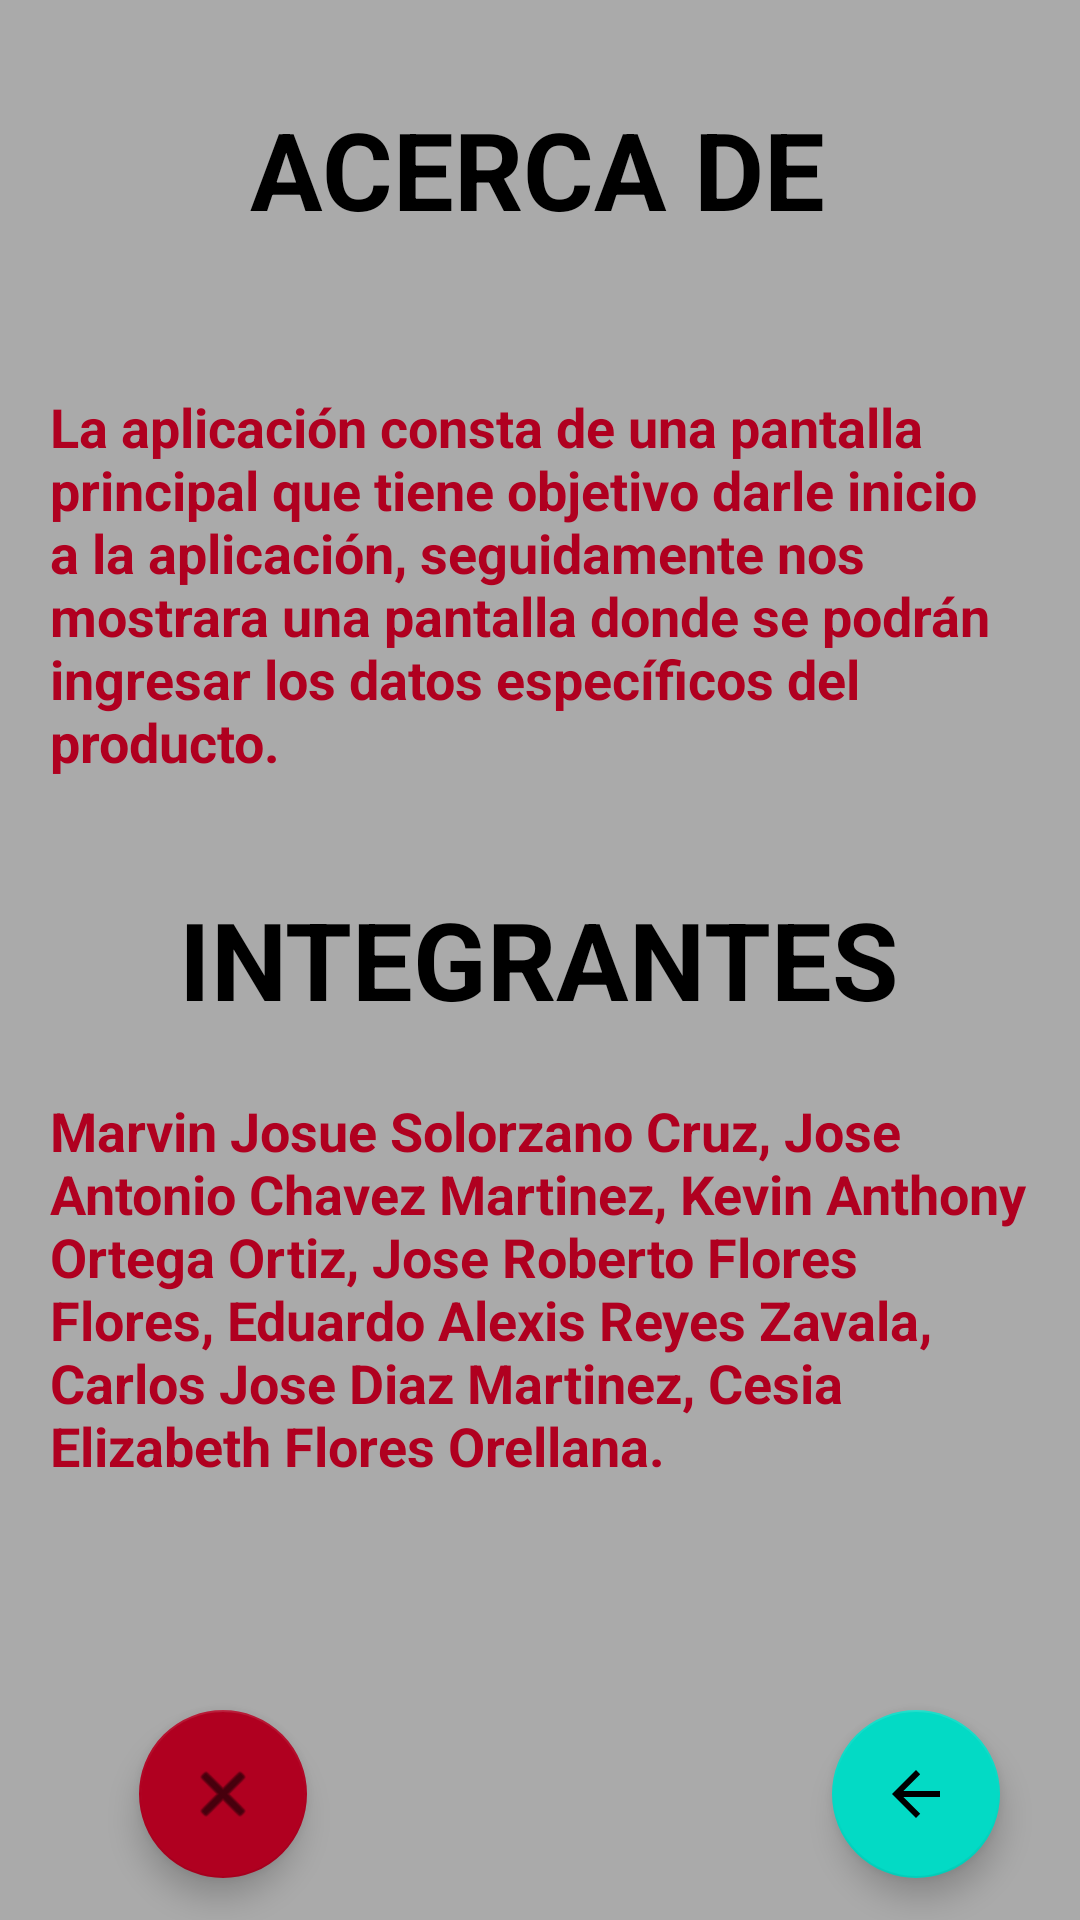

Locate icon controls on the screen. Image size 1080w x 1920h, boxes as box=[x1, y1, x2, y2].
close clear cancel: box=[139, 1710, 307, 1878]
